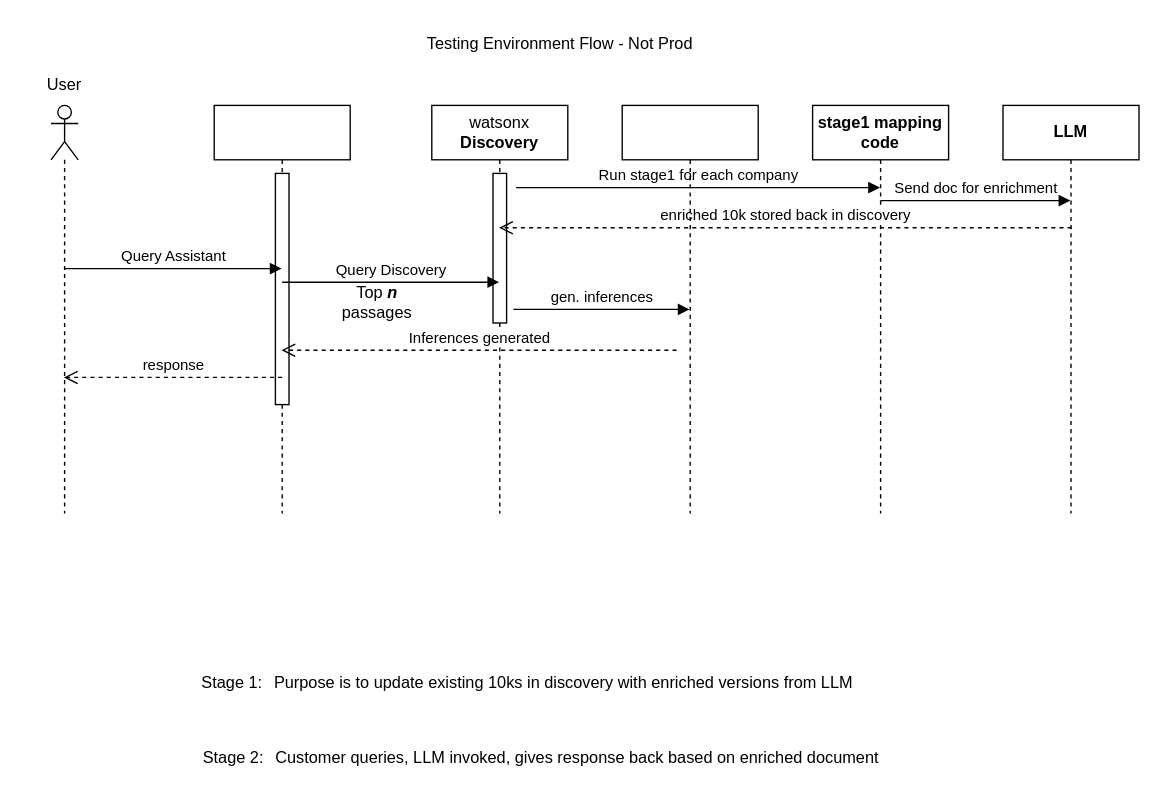
The diagram is 1163 pixels wide and 801 high, and some of its shapes have lost their labels. Here are the shapes that lost their labels. From the top down, the box of each, then its label:
(213, 104, 350, 513): watsonx Assistant
(621, 104, 758, 513): watsonx Embedded LLM
